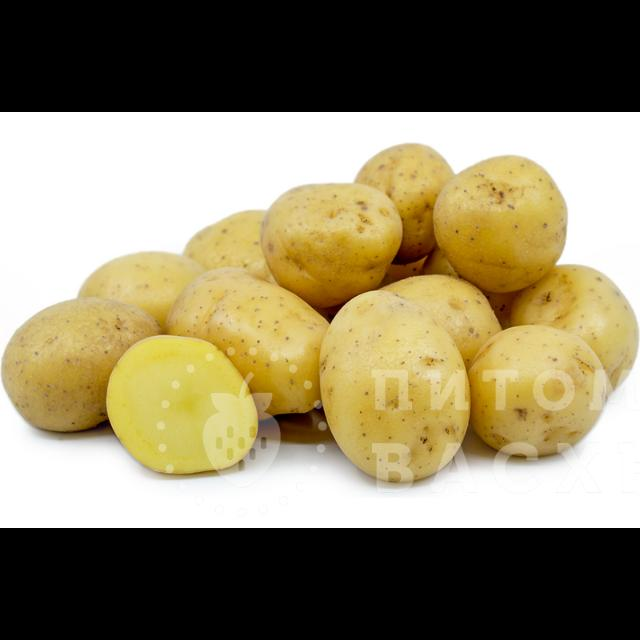Potato: (322, 288, 472, 484), (170, 268, 344, 420), (3, 298, 165, 432), (434, 155, 570, 297), (260, 184, 402, 314), (469, 324, 606, 458), (509, 262, 639, 400), (185, 208, 329, 332), (75, 252, 213, 346), (355, 144, 459, 268)
